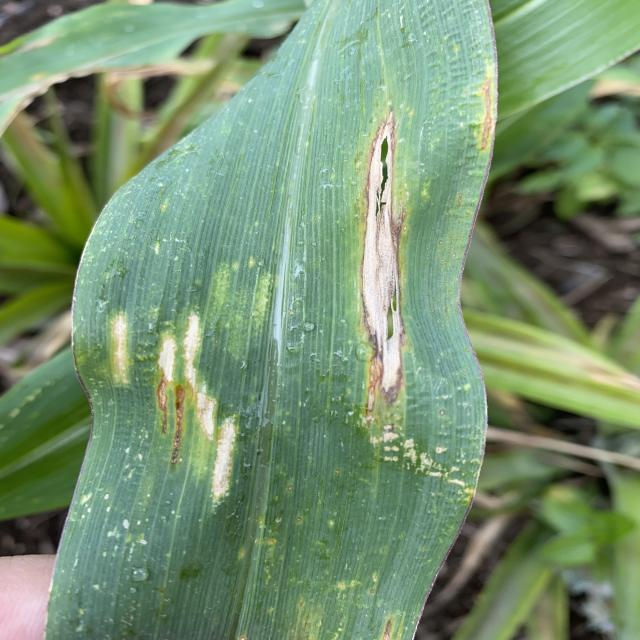Corn_Leaf_Blight: (67, 0, 492, 640)
